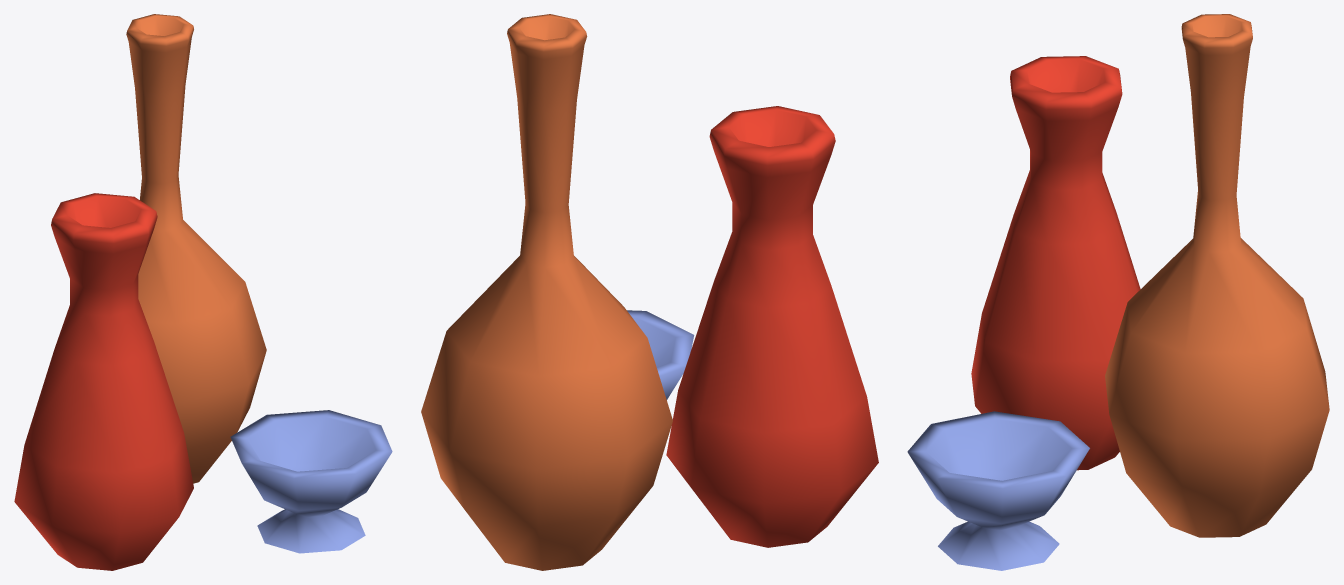
Rendered from AS_Jars.fbx.
3 renders of one model, left to right at view 1: azimuth 30°, elevation 25°; view 2: azimuth 150°, elevation 25°; view 3: azimuth 270°, elevation 25°, orthographic. The views are drawn at different scales.
Parts seen in each view (by area): view 1: Cylinder.007; view 2: Cylinder.007; view 3: Cylinder.007.
Part boxes in pixels (left/top/right/bottom): Cylinder.007: left=14, top=14, right=392, bottom=570; Cylinder.007: left=421, top=14, right=878, bottom=570; Cylinder.007: left=907, top=14, right=1329, bottom=570.
Bounding box in the file's own units: 379 × 499 × 389.
